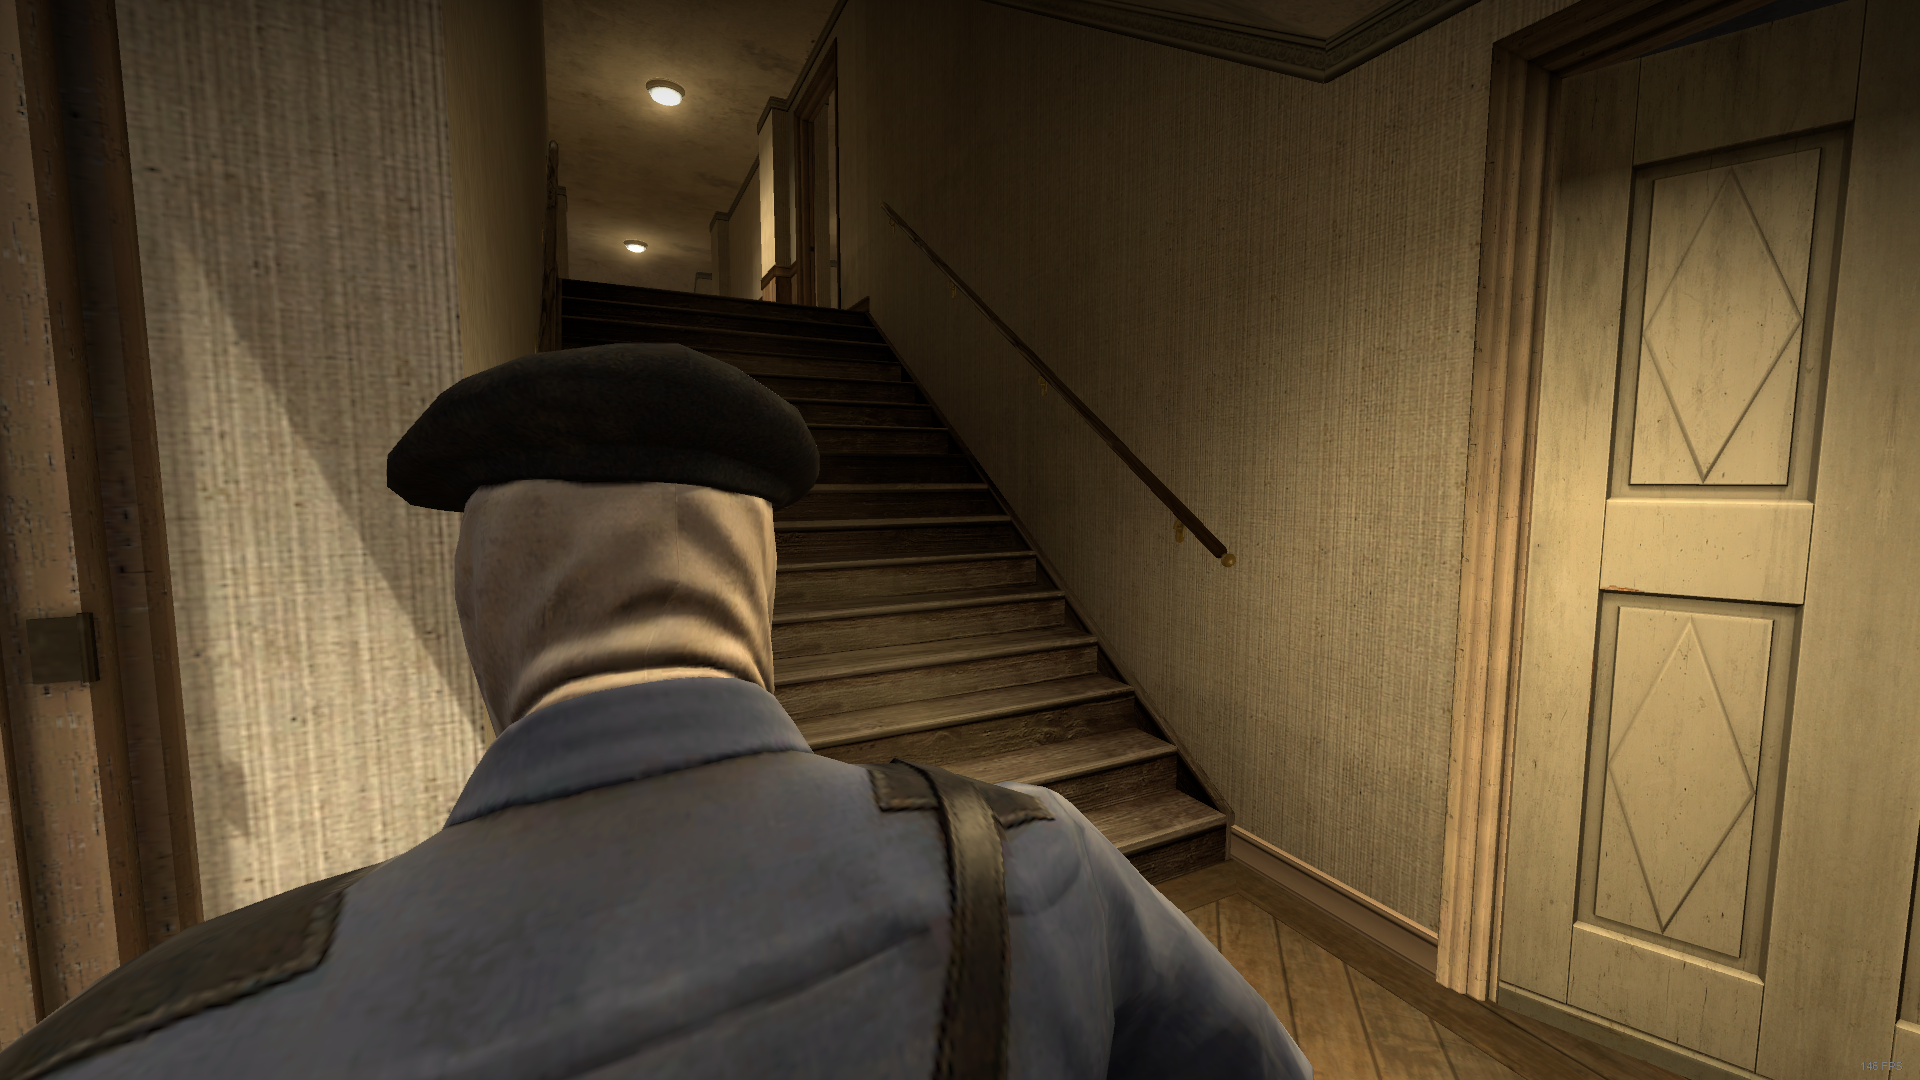t: (49, 342, 1317, 1080)
